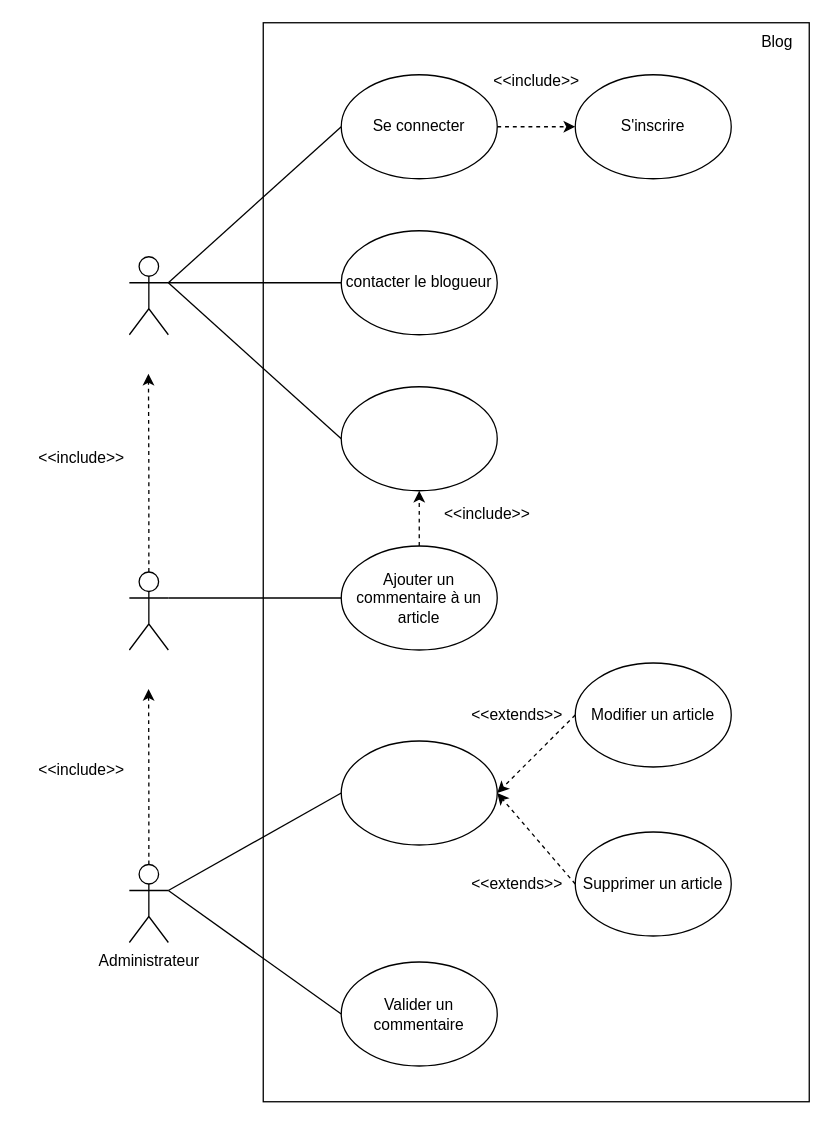
Some shapes in this 832 by 1125 pixel diagram are drawn without their labels. The shapes that lost their labels are listed below. From the top down, each one's centre as x and y in pixels, then its label:
At (x=148, y=295): "Visiteur".
At (x=418, y=438): "Consulter des articles".
At (x=148, y=610): "Utilisateur".
At (x=418, y=792): "Ajouter un article".
